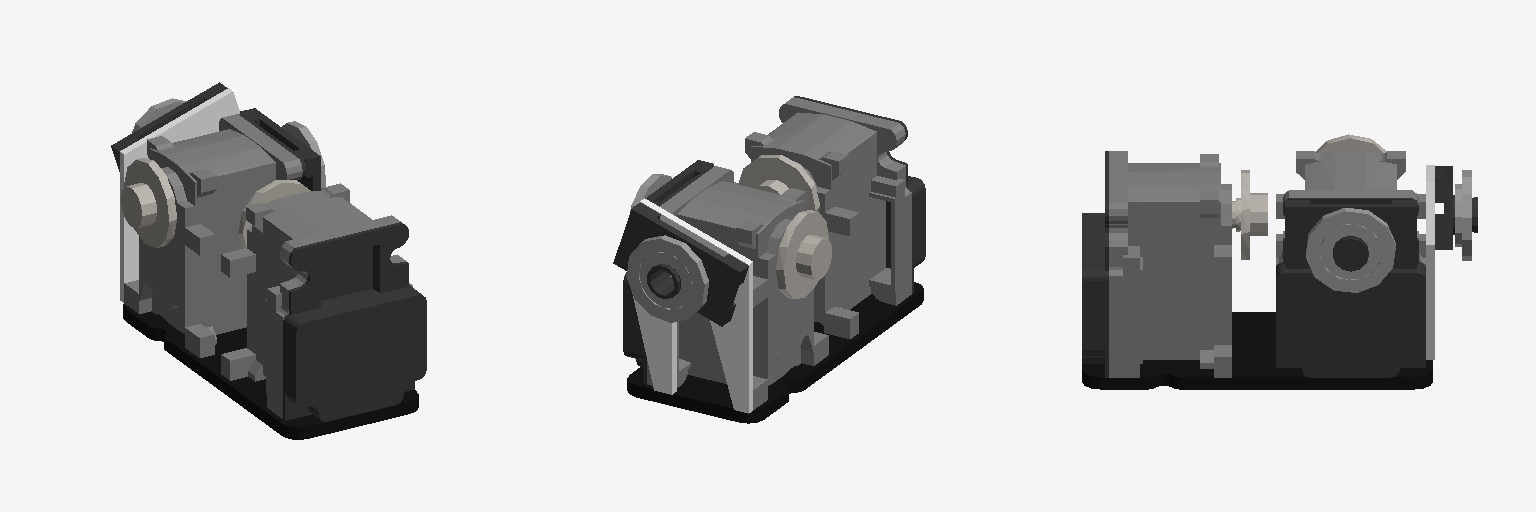
Rendered from Dual_Servo_Al_022_3_mesh.obj.
The picture shows the model from 3 angles: view 1: azimuth 30°, elevation 25°; view 2: azimuth 150°, elevation 25°; view 3: azimuth 270°, elevation 25°; orthographic projection.
Visible parts, largest first — view 1: Body16, Body2, Body14, Body11, Body20, Body1, Body6, Body12, Body13, Body10, Body21; view 2: Body14, Body2, Body11, Body20, Body12, Body1, Body21, Body13, Body16, Body5, Body22, Body6; view 3: Body14, Body5, Body11, Body2, Body6, Body16, Body10, Body13, Body20, Body12, Body4, Body21 (+1 smaller).
Boxes of the visible parts, x1=… form: Body16: x1=283, y1=222, x2=426, y2=421; Body2: x1=124, y1=114, x2=302, y2=357; Body14: x1=221, y1=183, x2=412, y2=418; Body11: x1=123, y1=304, x2=418, y2=439; Body20: x1=120, y1=88, x2=239, y2=302; Body1: x1=121, y1=158, x2=176, y2=247; Body6: x1=240, y1=108, x2=320, y2=190; Body12: x1=111, y1=82, x2=227, y2=171; Body13: x1=238, y1=180, x2=310, y2=248; Body10: x1=282, y1=121, x2=325, y2=189; Body21: x1=132, y1=98, x2=186, y2=132; Body14: x1=734, y1=97, x2=911, y2=338; Body2: x1=647, y1=166, x2=828, y2=409; Body11: x1=627, y1=282, x2=923, y2=423; Body20: x1=632, y1=198, x2=752, y2=413; Body12: x1=613, y1=203, x2=748, y2=326; Body1: x1=776, y1=210, x2=831, y2=298; Body21: x1=626, y1=235, x2=708, y2=322; Body13: x1=738, y1=155, x2=819, y2=211; Body16: x1=794, y1=96, x2=925, y2=293; Body5: x1=623, y1=165, x2=713, y2=383; Body22: x1=640, y1=252, x2=692, y2=308; Body6: x1=634, y1=160, x2=713, y2=206; Body14: x1=1109, y1=151, x2=1231, y2=377; Body5: x1=1276, y1=198, x2=1425, y2=377; Body11: x1=1082, y1=312, x2=1432, y2=389; Body2: x1=1276, y1=151, x2=1425, y2=266; Body6: x1=1285, y1=200, x2=1416, y2=271; Body16: x1=1082, y1=151, x2=1108, y2=377; Body10: x1=1306, y1=208, x2=1395, y2=292; Body13: x1=1232, y1=170, x2=1267, y2=259; Body20: x1=1426, y1=165, x2=1434, y2=359; Body12: x1=1435, y1=166, x2=1477, y2=249; Body4: x1=1320, y1=224, x2=1380, y2=279; Body21: x1=1455, y1=170, x2=1471, y2=260.
Size of the model in its own units: 0.0451 by 0.048 by 0.0869.